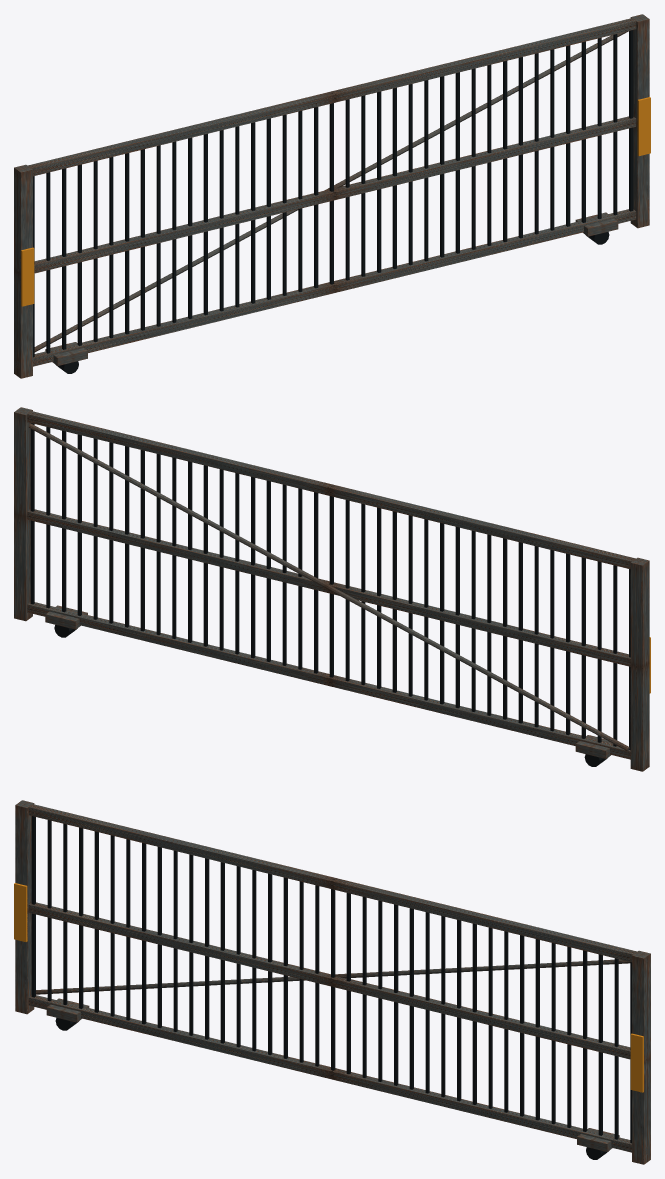
File: SlidingFenceGate.obj
The picture shows the model from 3 angles, top to bottom: view 1: azimuth 30°, elevation 25°; view 2: azimuth 150°, elevation 25°; view 3: azimuth 330°, elevation 25°; orthographic projection.
Parts seen in each view (by area): view 1: SlidingFenceGate; view 2: SlidingFenceGate; view 3: SlidingFenceGate.
Part boxes in pixels (x1,y1,x2,y2): SlidingFenceGate: (14, 14, 650, 378); SlidingFenceGate: (14, 407, 650, 771); SlidingFenceGate: (14, 800, 650, 1164).
Size of the model in its own units: 8.3 by 2.68 by 0.28.
Materials: 3 (1 with a texture image).
